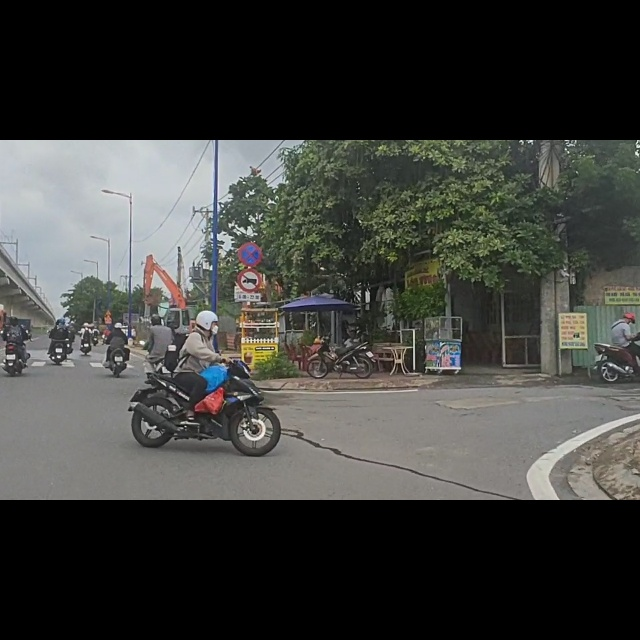bien_nguy_hiem: (237, 228, 263, 273), (239, 183, 265, 226)
